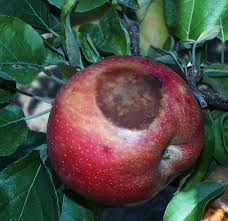damaged_apple: (53, 57, 203, 196)
